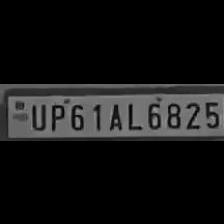1: (86, 98, 104, 130)
2: (182, 97, 200, 128)
5: (201, 98, 221, 128)
6: (142, 97, 162, 128), (66, 100, 86, 130)
8: (163, 99, 181, 129)
A: (105, 98, 123, 130)
L: (123, 97, 141, 128)
P: (47, 100, 65, 130)
U: (28, 100, 46, 130)
